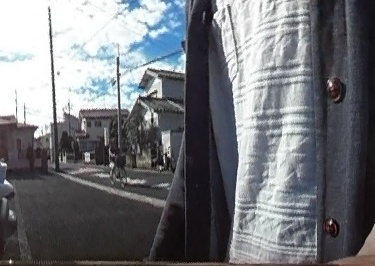person: (107, 133, 120, 175)
